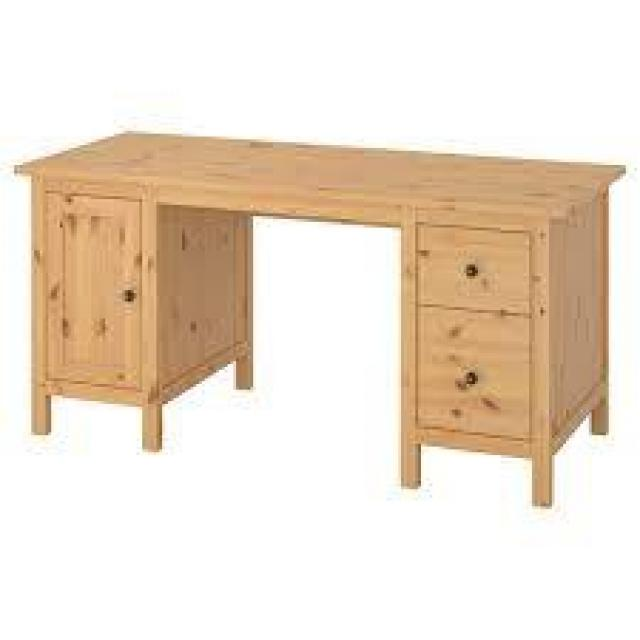desk: (0, 72, 626, 505)
